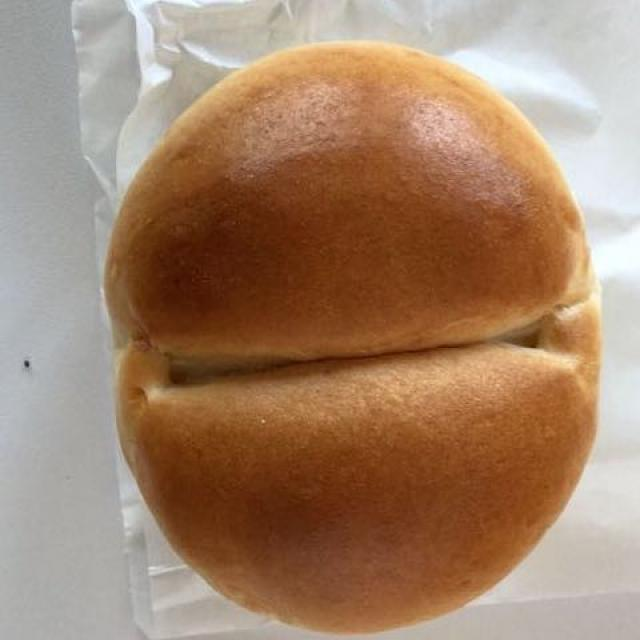bread: (113, 49, 591, 609)
